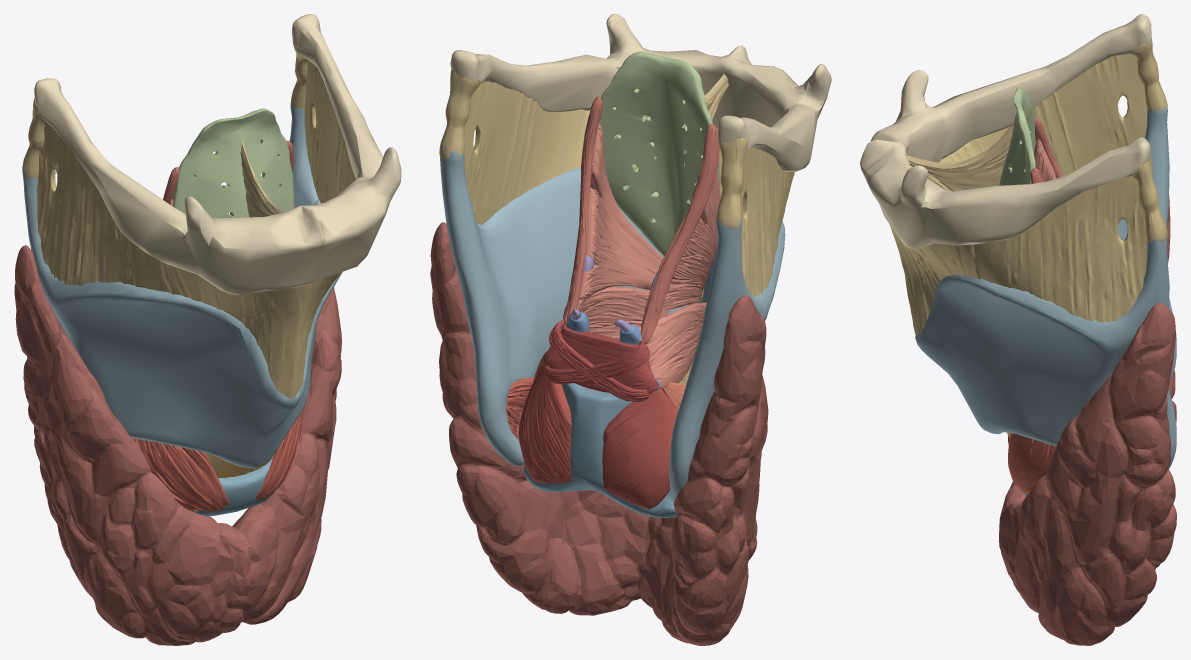
Rendered from larynx.glb.
3 views of the same model, side by side, from view 1: azimuth 30°, elevation 25°; view 2: azimuth 150°, elevation 25°; view 3: azimuth 270°, elevation 25° (orthographic). The views are drawn at different scales.
Parts seen in each view (by area): view 1: thyroid-gland, thyroid-cartilage, hyoid-bone, thyrohyoid-membrane, epiglottis, cricothyroid-muscle, cricoid-cartilage, epiglottic-ligaments; view 2: thyroid-gland, thyroid-cartilage, thyrohyoid-membrane, hyoid-bone, epiglottis, thyro-arytenoid, posterior-crico-arytenoid, arytenoid-muscles, aryepiglottic-muscle, cricoid-cartilage, cricothyroid-muscle, arytenoid-cartilages (+1 smaller); view 3: thyroid-gland, thyrohyoid-membrane, thyroid-cartilage, hyoid-bone, epiglottic-ligaments, epiglottis, cricothyroid-muscle, aryepiglottic-muscle, thyro-arytenoid.
Boxes of the visible parts, x1,y1,x2,y2 form: thyroid-gland: [14, 245, 341, 645]; thyroid-cartilage: [22, 102, 342, 468]; hyoid-bone: [34, 14, 401, 294]; thyrohyoid-membrane: [22, 41, 355, 398]; epiglottis: [173, 108, 293, 218]; cricothyroid-muscle: [133, 409, 303, 512]; cricoid-cartilage: [191, 458, 275, 515]; epiglottic-ligaments: [240, 142, 284, 217]; thyroid-gland: [430, 222, 768, 645]; thyroid-cartilage: [440, 147, 785, 501]; thyrohyoid-membrane: [439, 69, 794, 296]; hyoid-bone: [450, 14, 831, 171]; epiglottis: [599, 51, 720, 256]; thyro-arytenoid: [548, 121, 720, 388]; posterior-crico-arytenoid: [518, 365, 678, 509]; arytenoid-muscles: [543, 320, 659, 401]; aryepiglottic-muscle: [563, 96, 719, 344]; cricoid-cartilage: [523, 383, 676, 517]; cricothyroid-muscle: [506, 377, 533, 438]; arytenoid-cartilages: [566, 311, 660, 390]; thyroid-gland: [999, 196, 1176, 645]; thyrohyoid-membrane: [889, 41, 1167, 335]; thyroid-cartilage: [915, 105, 1176, 468]; hyoid-bone: [860, 14, 1151, 248]; epiglottic-ligaments: [907, 123, 1013, 191]; epiglottis: [999, 87, 1035, 185]; cricothyroid-muscle: [1008, 433, 1133, 495]; aryepiglottic-muscle: [1030, 116, 1062, 183]; thyro-arytenoid: [1034, 138, 1056, 181].
Bounding box in the file's own units: 0.6592 × 1.13 × 0.6005.
